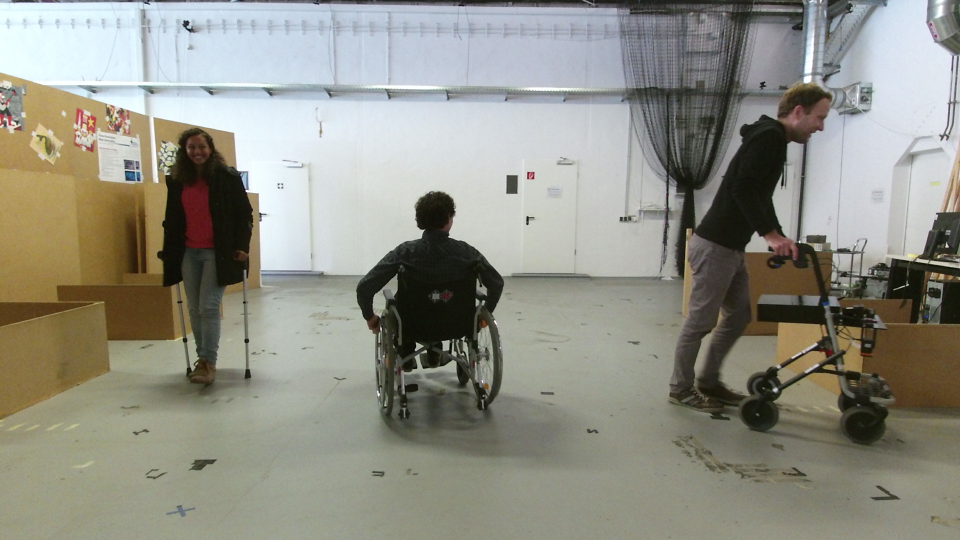crutches: (147, 122, 264, 391)
wheelchair: (348, 185, 510, 425)
